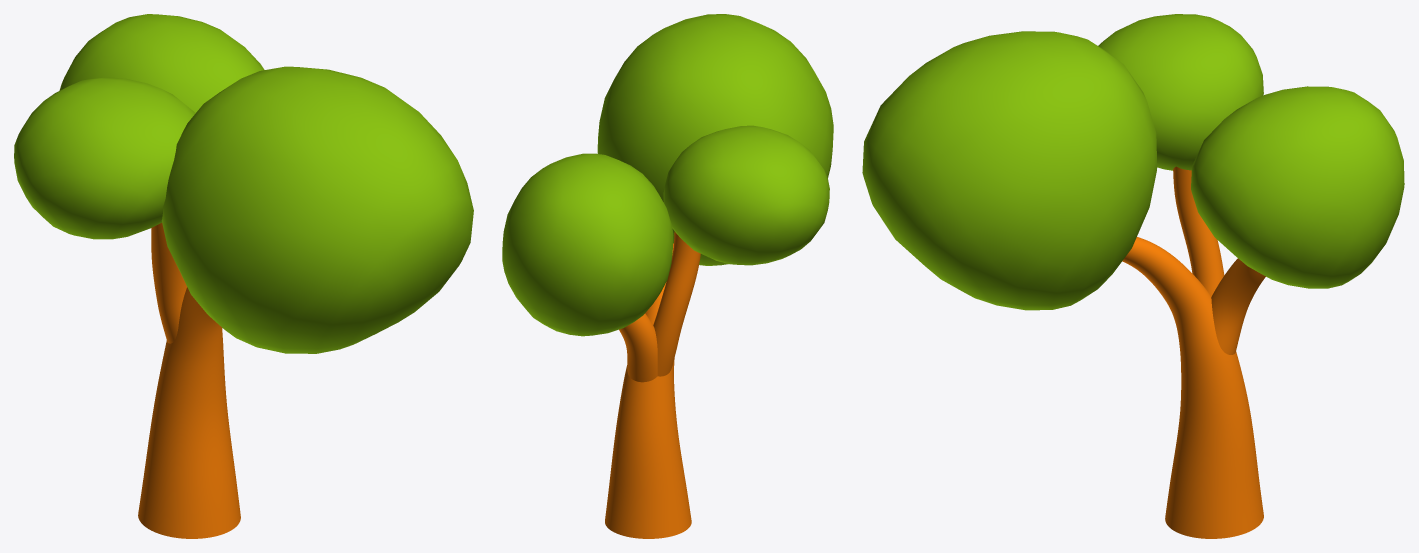
Rendered from tree 1.fbx.
3 renders of one model, left to right at view 1: azimuth 30°, elevation 25°; view 2: azimuth 150°, elevation 25°; view 3: azimuth 270°, elevation 25°, orthographic. The views are drawn at different scales.
Visible parts, largest first — view 1: daun.115; view 2: daun.115; view 3: daun.115.
Boxes of the visible parts, box(x1,y1,x2,y2) form: daun.115: box(14, 14, 473, 538); daun.115: box(502, 14, 833, 538); daun.115: box(862, 14, 1404, 538).
Size of the model in its own units: 661 by 960 by 973.
